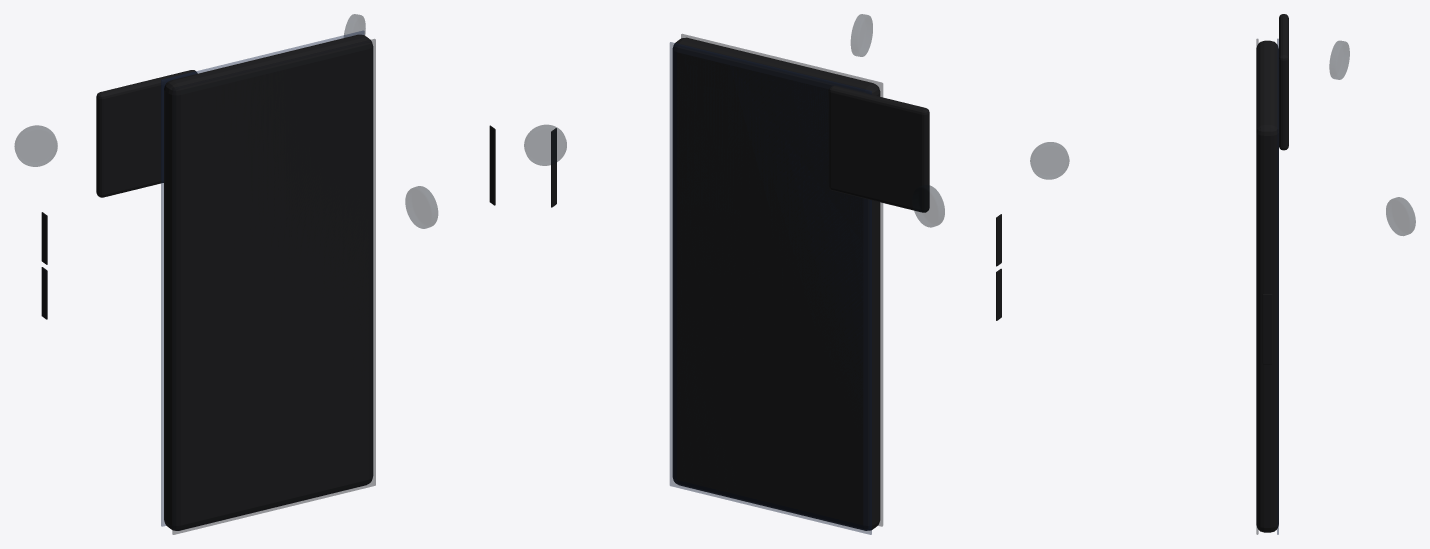
The model's file is iPhone_18_Pro.fbx.
3 renders of one model, left to right at view 1: azimuth 30°, elevation 25°; view 2: azimuth 150°, elevation 25°; view 3: azimuth 270°, elevation 25°, orthographic. The views are drawn at different scales.
Visible parts, largest first — view 1: frame.band, glass.front, camera.island, glass.back, camera.lens_1, camera.lens_2; view 2: frame.band, glass.back, camera.island, glass.front, camera.lens_3, camera.lens_1, camera.lens_2; view 3: frame.band, glass.front, camera.island, camera.lens_2, glass.back, camera.lens_3, button.side, camera.lens_1.
Boxes of the visible parts, x1,y1,x2,y2 form: frame.band: [164, 34, 373, 530]; glass.front: [172, 39, 375, 534]; camera.island: [96, 70, 197, 197]; glass.back: [161, 30, 364, 526]; camera.lens_1: [14, 125, 57, 166]; camera.lens_2: [405, 186, 437, 228]; frame.band: [672, 37, 880, 530]; glass.back: [670, 42, 871, 534]; camera.island: [828, 86, 929, 212]; glass.front: [681, 34, 882, 526]; camera.lens_3: [524, 125, 566, 165]; camera.lens_1: [912, 185, 944, 227]; camera.lens_2: [851, 14, 872, 56]; frame.band: [1256, 40, 1278, 532]; glass.front: [1256, 39, 1258, 534]; camera.island: [1279, 14, 1288, 150]; camera.lens_2: [1030, 142, 1069, 179]; glass.back: [1277, 39, 1278, 534]; camera.lens_3: [1386, 197, 1415, 235]; button.side: [1262, 294, 1272, 364]; camera.lens_1: [1329, 41, 1349, 79].
Bounding box in the file's own units: 17.14 × 16.3 × 14.01.
